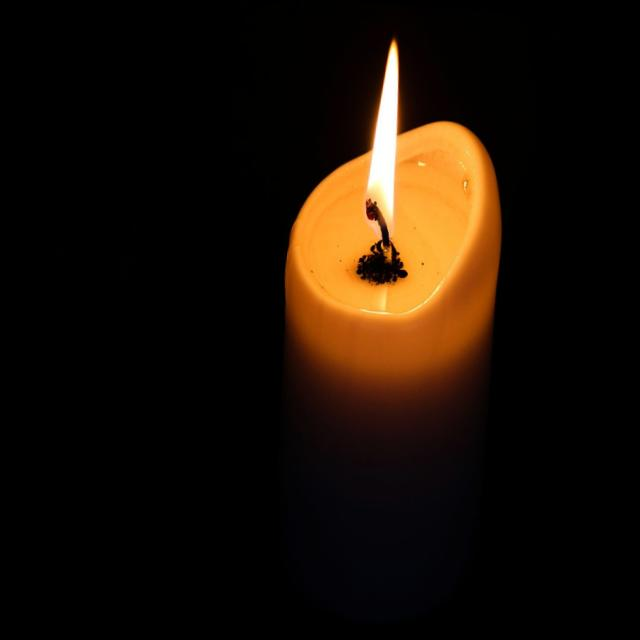Fire_Save: (260, 29, 516, 626)
